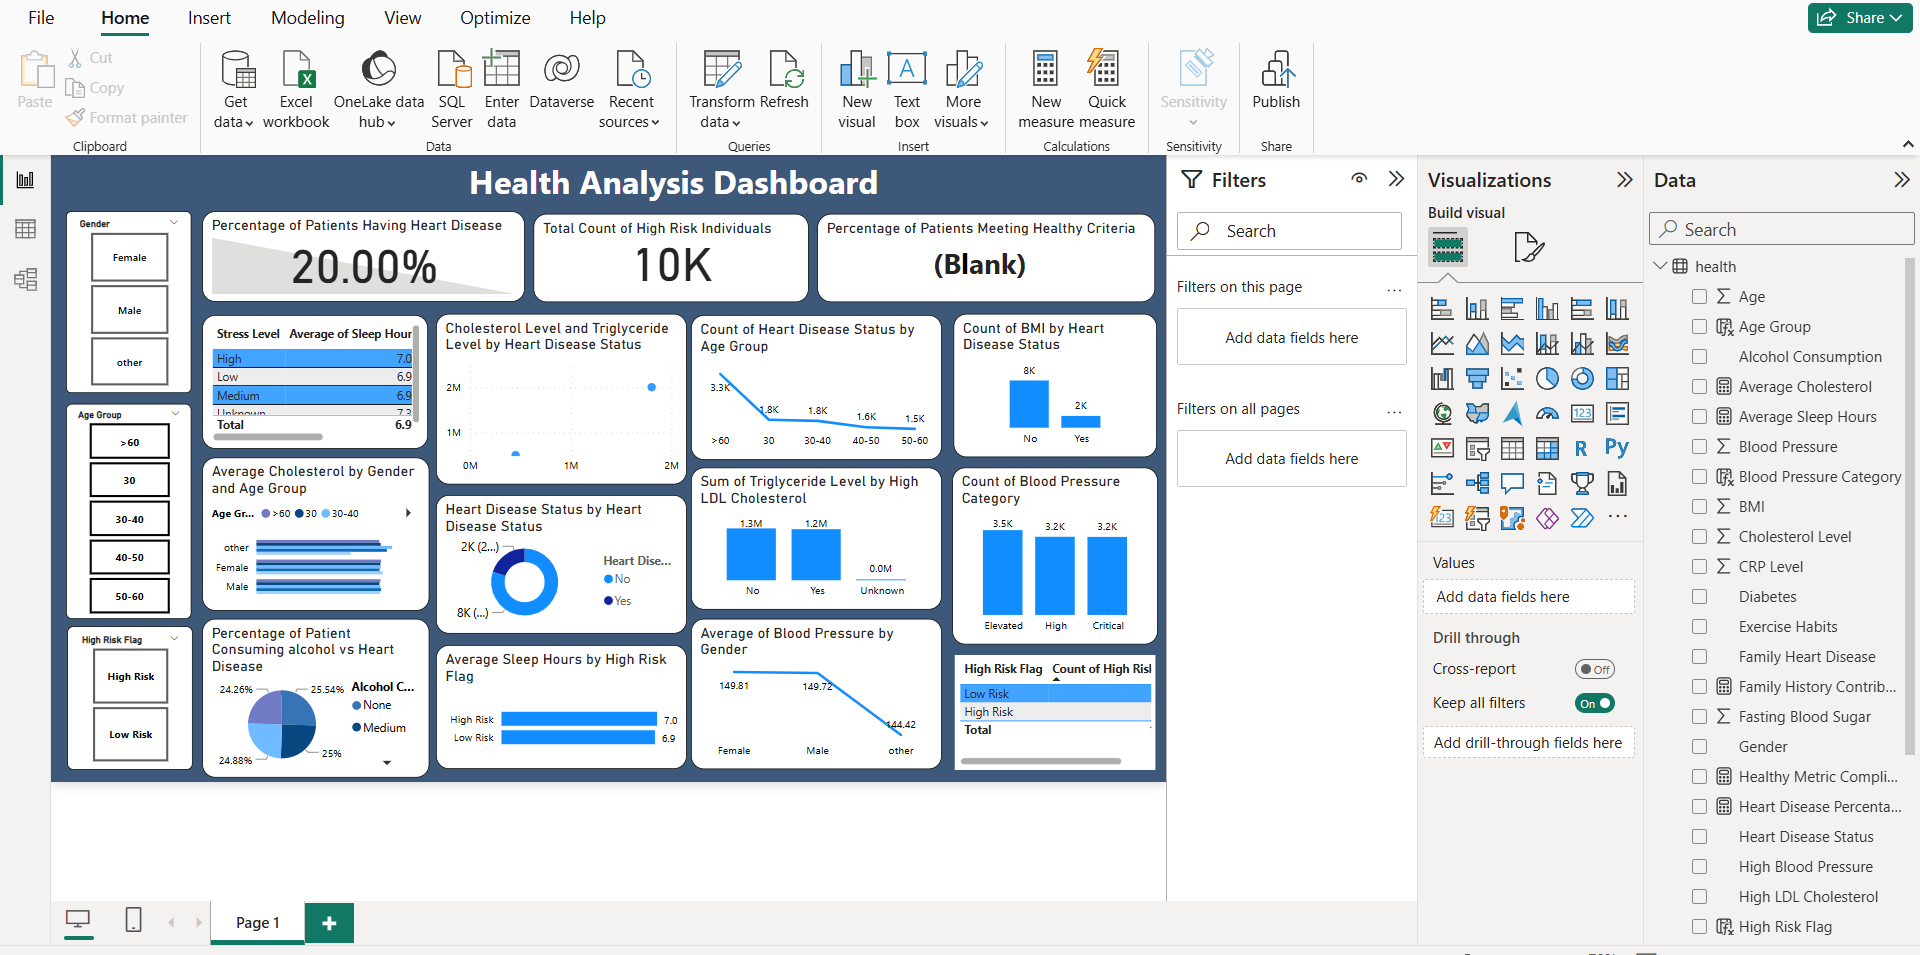

What the dashboard file says about the page in this screenshot:
{"tool":"powerbi","page":{"name":"Page 1","canvas":[1280,720],"ordinal":0},"visuals":[{"type":"donutChart","title":"Heart Disease Status by Heart Disease Status","fields":{"Category":["health.Heart Disease Status"],"Y":["CountNonNull(health.Heart Disease Status)"]},"box":[441.9,389.7,288.2,159.2],"z":0},{"type":"clusteredBarChart","fields":{"Y":["health.Average Cholesterol"],"Category":["health.Gender"],"Series":["health.Age Group"]},"box":[174.3,347.2,260.7,175.6],"z":1000},{"type":"columnChart","title":"Count of Blood Pressure Category ","fields":{"Category":["health.Blood Pressure Category"],"Y":["CountNonNull(health.Blood Pressure Category)"]},"box":[1034.7,359.5,236,203.1],"z":2000},{"type":"tableEx","fields":{"Values":["health.High Risk Flag","CountNonNull(health.High Risk Flag)"]},"box":[1037.4,573.6,230.5,131.7],"z":3000},{"type":"scatterChart","title":"Cholesterol Level and Triglyceride Level by Heart Disease Status","fields":{"X":["Sum(health.Cholesterol Level)"],"Y":["Sum(health.Triglyceride Level)"],"Category":["health.Heart Disease Status"]},"box":[441.9,182.5,288.2,196.2],"z":4000},{"type":"clusteredColumnChart","fields":{"Y":["CountNonNull(health.BMI)"],"Category":["health.Heart Disease Status"]},"box":[1036,182.5,233.3,164.7],"z":5000},{"type":"pieChart","title":"Percentage of Patient Consuming alcohol vs Heart Disease","fields":{"Category":["health.Alcohol Consumption","health.Smoking"],"Y":["CountNonNull(health.Heart Disease Status)"]},"box":[174.3,532.4,260.7,182.5],"z":6000},{"type":"barChart","fields":{"Category":["health.High Risk Flag"],"Y":["health.Average Sleep Hours"]},"box":[441.9,562.6,288.2,142.7],"z":7000},{"type":"lineChart","fields":{"Category":["health.Age Group"],"Y":["CountNonNull(health.Heart Disease Status)"]},"box":[735.5,183.9,288.2,166],"z":8000},{"type":"lineChart","fields":{"Category":["health.Gender"],"Y":["Avg(health.Blood Pressure)"]},"box":[735.5,532.4,288.2,172.9],"z":9000},{"type":"columnChart","fields":{"Category":["health.High LDL Cholesterol"],"Y":["Sum(health.Triglyceride Level)"]},"box":[735.5,359.5,288.2,163.3],"z":10000},{"type":"textbox","box":[474.8,0,488.5,64.5],"z":11000},{"type":"slicer","fields":{"Values":["health.Gender"]},"box":[17.8,64.5,144.1,208.6],"z":12000},{"type":"slicer","fields":{"Values":["health.Age Group"]},"box":[17.8,285.4,144.1,247],"z":13000},{"type":"card","title":"Total Count of High Risk Individuals","fields":{"Values":["CountNonNull(health.High Risk Flag)"]},"box":[554.4,67.2,315.6,101.5],"z":14000},{"type":"slicer","fields":{"Values":["health.High Risk Flag"]},"box":[19.2,540.7,144.1,164.7],"z":15000},{"type":"kpi","title":"Percentage of Patients Having Heart Disease ","fields":{"TrendLine":["health.Heart Disease Status"],"Indicator":["CountNonNull(health.Stress Level)"]},"box":[174.3,64.5,370.5,104.3],"z":16000},{"type":"kpi","title":"Percentage of Patients Meeting Healthy Criteria","fields":{"Indicator":["health.Healthy Metric Compliance"]},"box":[879.6,67.2,388.3,101.5],"z":17000},{"type":"tableEx","fields":{"Values":["health.Stress Level","Avg(health.Sleep Hours)","health.Heart Disease Percentage"]},"box":[174.3,183.9,259.3,153.7],"z":18000},{"type":"textbox","box":[1007.2,97.4,134.5,60.4],"z":19000}]}

Visuals, with their boxes on the page's 1280x720 design canvas (x1, y1, x2, y2). These are canvas units, not pixel positions in the 1920x955 screenshot, which may show the page scaled, cropped or inside an application window:
"Heart Disease Status by Heart Disease Status" donutChart: <box>442,390,730,549</box>
clusteredBarChart - health.Average Cholesterol x health.Gender: <box>174,347,435,523</box>
"Count of Blood Pressure Category " columnChart: <box>1035,360,1271,563</box>
tableEx - health.High Risk Flag x CountNonNull(health.High Risk Flag): <box>1037,574,1268,705</box>
"Cholesterol Level and Triglyceride Level by Heart Disease Status" scatterChart: <box>442,182,730,379</box>
clusteredColumnChart - CountNonNull(health.BMI) x health.Heart Disease Status: <box>1036,182,1269,347</box>
"Percentage of Patient Consuming alcohol vs Heart Disease" pieChart: <box>174,532,435,715</box>
barChart - health.High Risk Flag x health.Average Sleep Hours: <box>442,563,730,705</box>
lineChart - health.Age Group x CountNonNull(health.Heart Disease Status): <box>736,184,1024,350</box>
lineChart - health.Gender x Avg(health.Blood Pressure): <box>736,532,1024,705</box>
columnChart - health.High LDL Cholesterol x Sum(health.Triglyceride Level): <box>736,360,1024,523</box>
textbox: <box>475,0,963,64</box>
slicer - health.Gender: <box>18,64,162,273</box>
slicer - health.Age Group: <box>18,285,162,532</box>
"Total Count of High Risk Individuals" card: <box>554,67,870,169</box>
slicer - health.High Risk Flag: <box>19,541,163,705</box>
"Percentage of Patients Having Heart Disease " kpi: <box>174,64,545,169</box>
"Percentage of Patients Meeting Healthy Criteria" kpi: <box>880,67,1268,169</box>
tableEx - health.Stress Level x Avg(health.Sleep Hours): <box>174,184,434,338</box>
textbox: <box>1007,97,1142,158</box>
